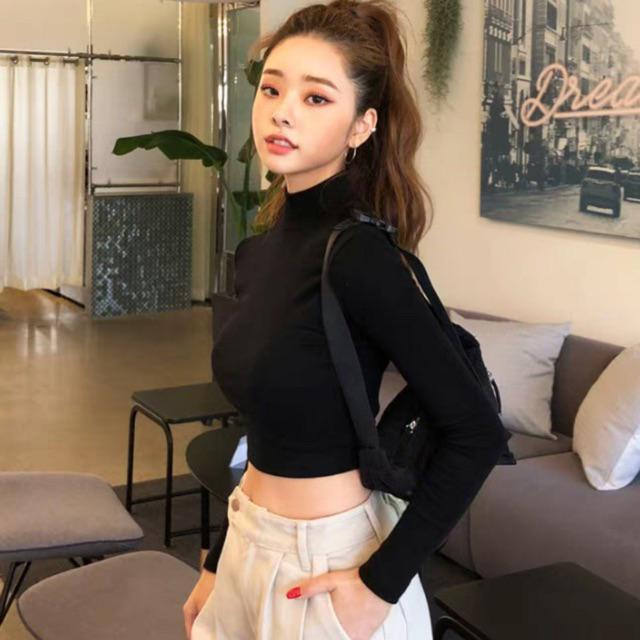Shirt: (207, 167, 497, 478)
